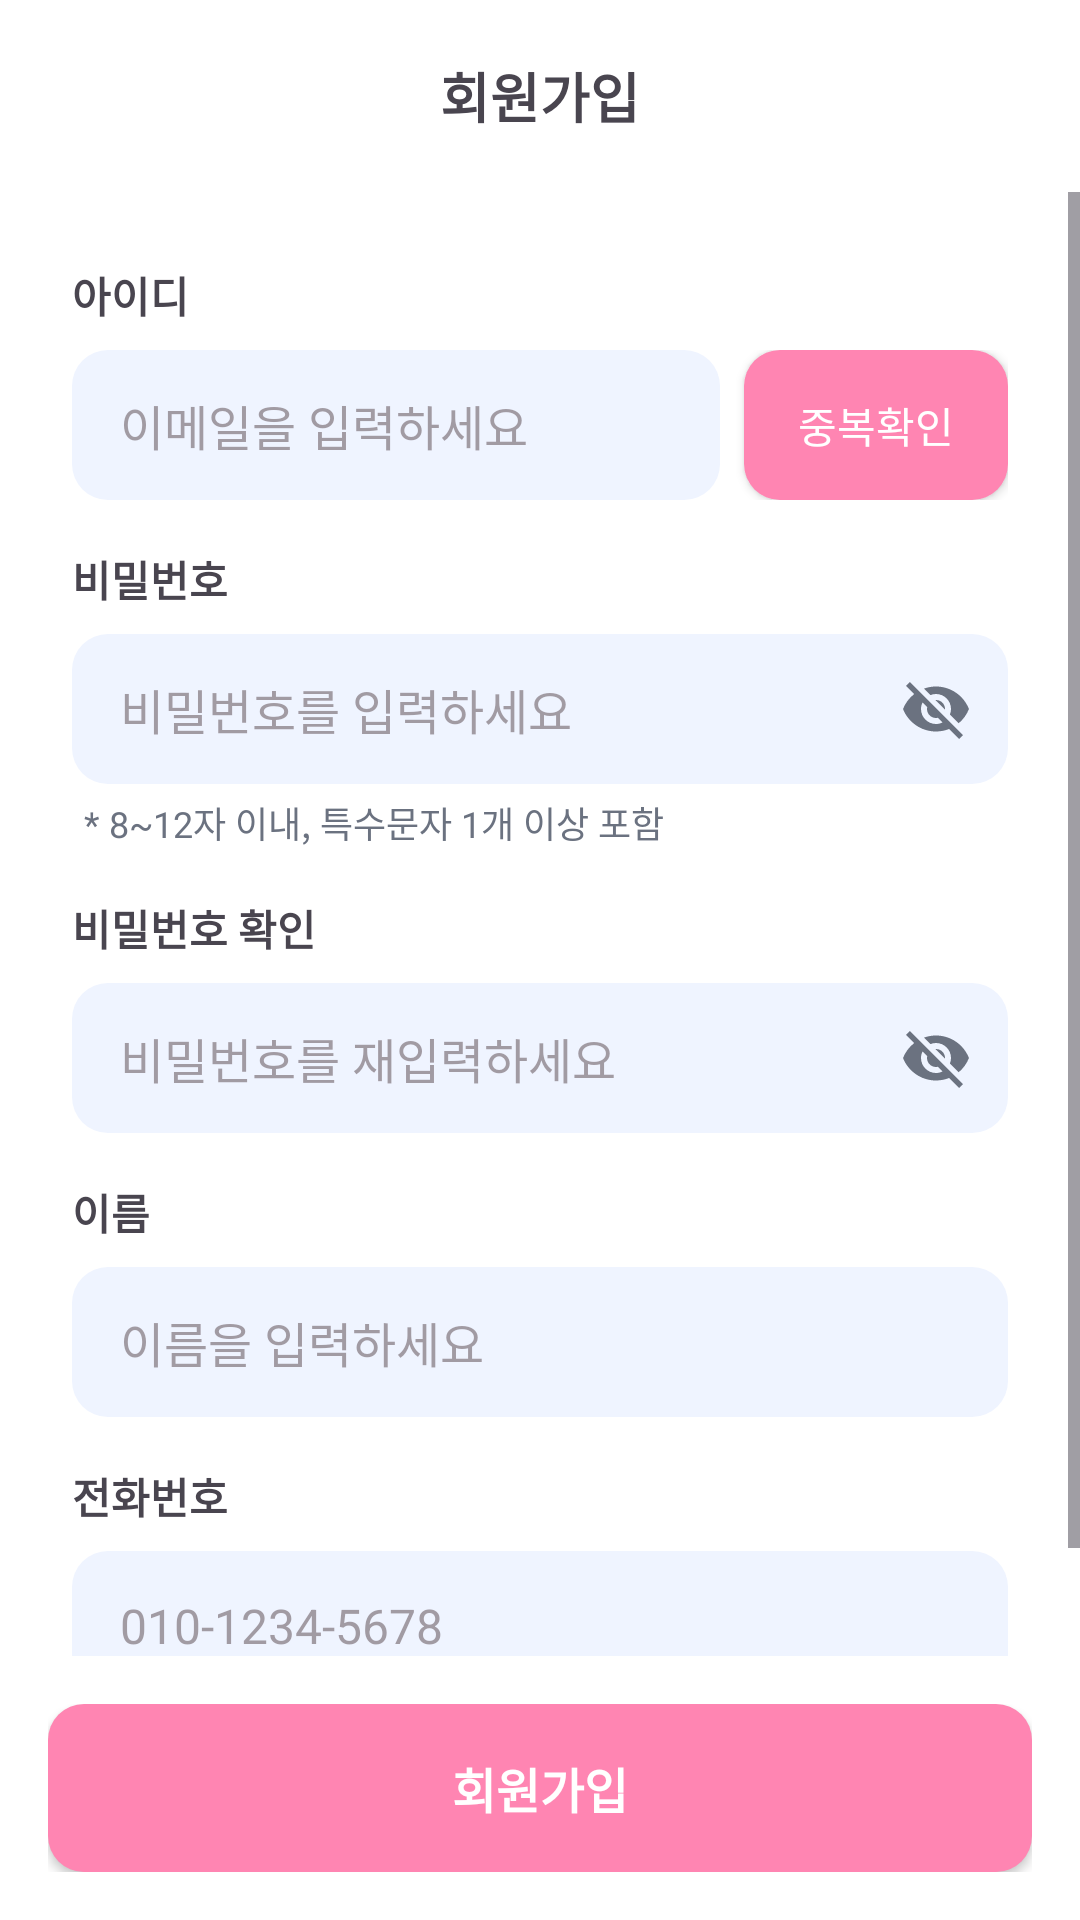

Locate icon controls on the screen. Image size 1080w x 1920h, boxes as bbox=[x1, y1, x2, y2].
eye off: bbox=[903, 682, 969, 739], bbox=[903, 1031, 969, 1088]
